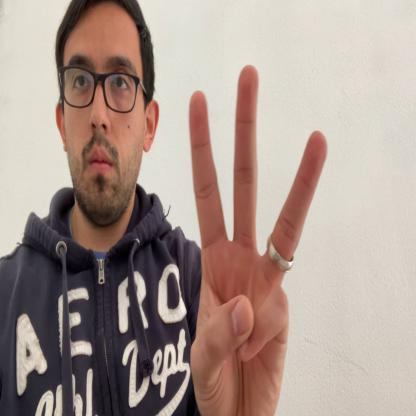W: (188, 62, 327, 415)
